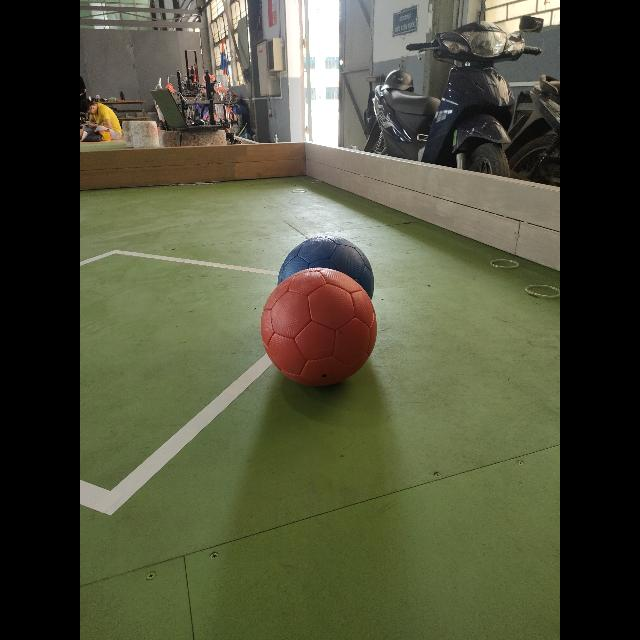B: (278, 236, 374, 296)
R: (261, 268, 377, 384)
